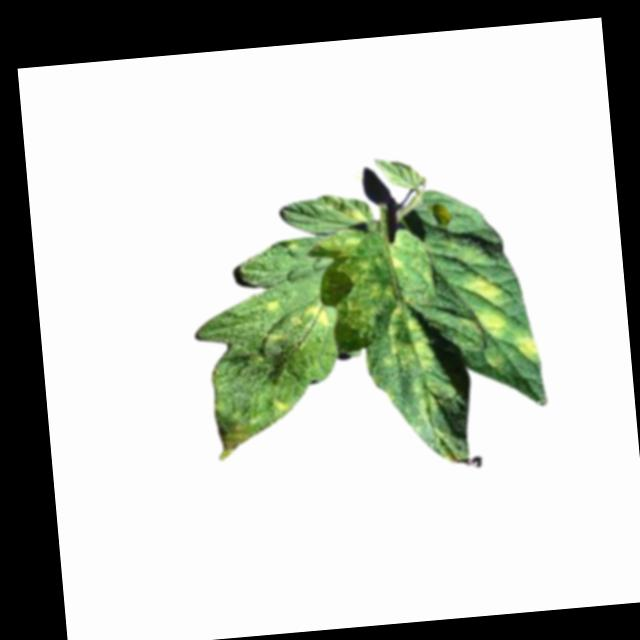Leaf_Mold: (311, 227, 396, 345), (373, 301, 436, 379), (454, 270, 506, 346), (404, 374, 455, 429), (212, 408, 258, 463), (288, 300, 329, 333), (516, 331, 543, 365), (269, 395, 289, 421), (261, 297, 283, 319)
